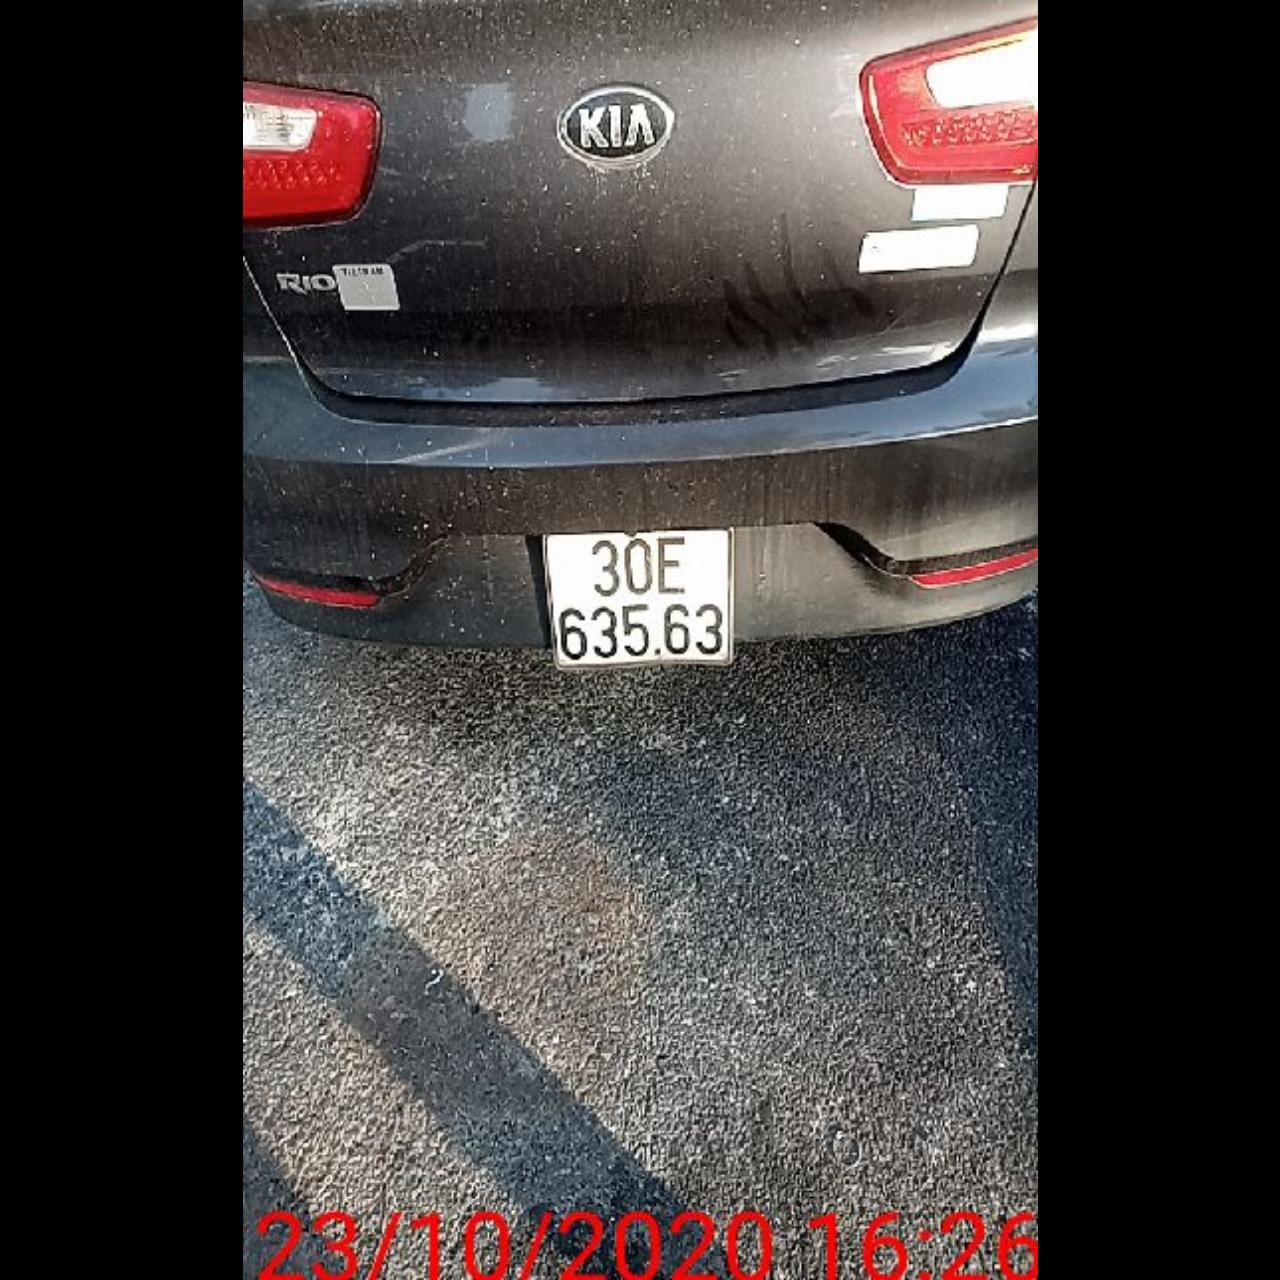bienso: (540, 524, 736, 674)
